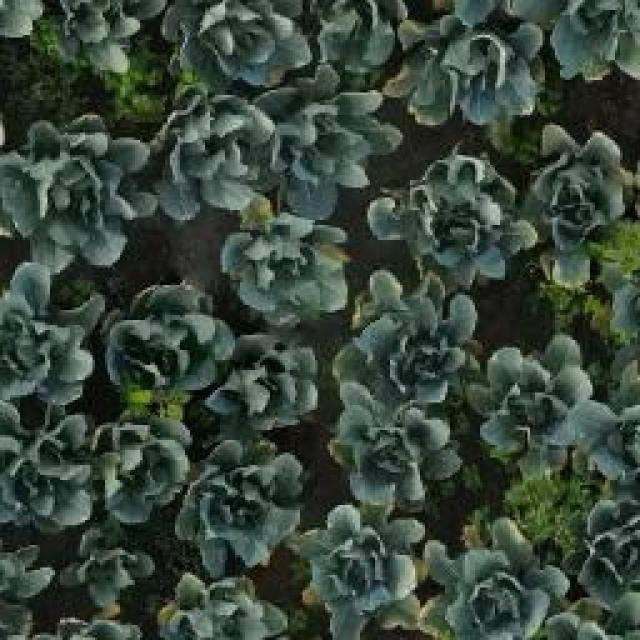cabbage: (0, 118, 146, 270), (370, 162, 538, 280), (395, 0, 545, 125), (141, 93, 276, 223), (336, 274, 479, 387), (303, 507, 424, 638), (218, 210, 351, 328), (427, 527, 565, 640), (177, 439, 303, 562), (104, 284, 236, 398), (334, 384, 458, 504), (271, 90, 402, 202), (0, 266, 96, 414), (520, 122, 632, 240), (477, 340, 585, 460), (162, 0, 314, 84), (0, 402, 95, 530), (211, 336, 319, 432), (91, 416, 186, 520), (529, 0, 640, 83), (165, 570, 288, 640), (62, 526, 156, 608)
